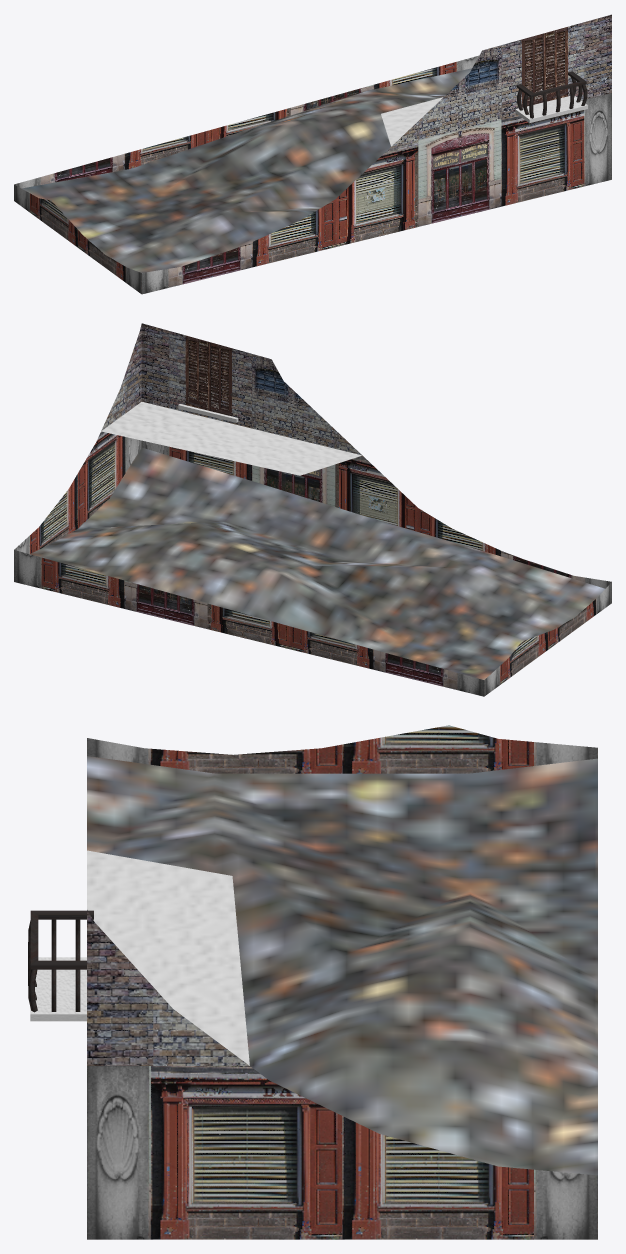
Rendered from House_008_destroyed_001.dae.
The picture shows the model from 3 angles, top to bottom: view 1: azimuth 30°, elevation 25°; view 2: azimuth 150°, elevation 25°; view 3: azimuth 270°, elevation 25°; orthographic projection. The views are drawn at different scales.
Visible parts, largest first — view 1: House_008; view 2: House_008; view 3: House_008.
Part boxes in pixels (<box>): House_008: <box>14,14,611,294</box>; House_008: <box>14,323,611,696</box>; House_008: <box>28,725,597,1239</box>.
Size of the model in its own units: 136 by 71.37 by 45.67.
Materials: 1 (1 with a texture image).
